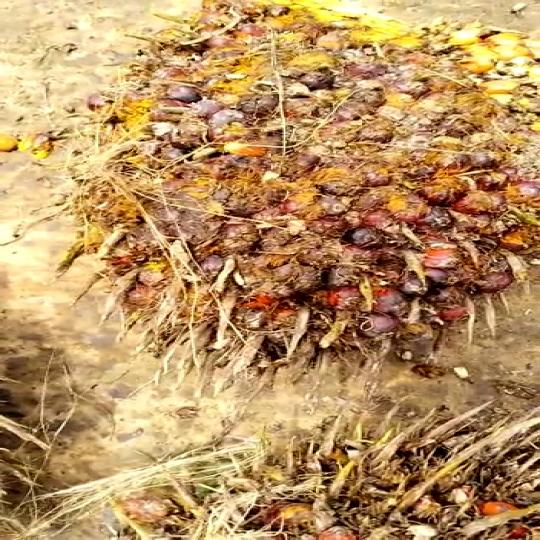masak: (50, 0, 540, 372)
